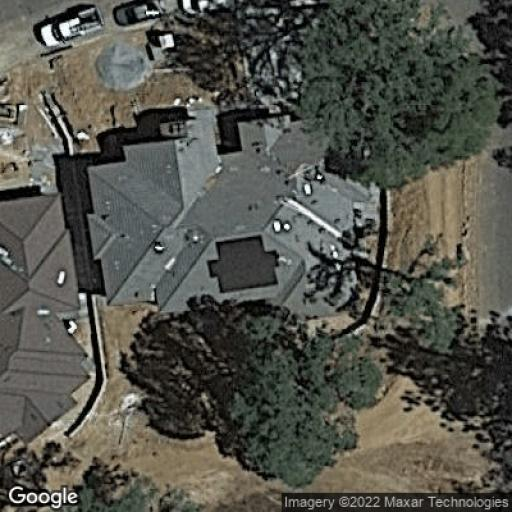solar-panel: (204, 235, 282, 294)
